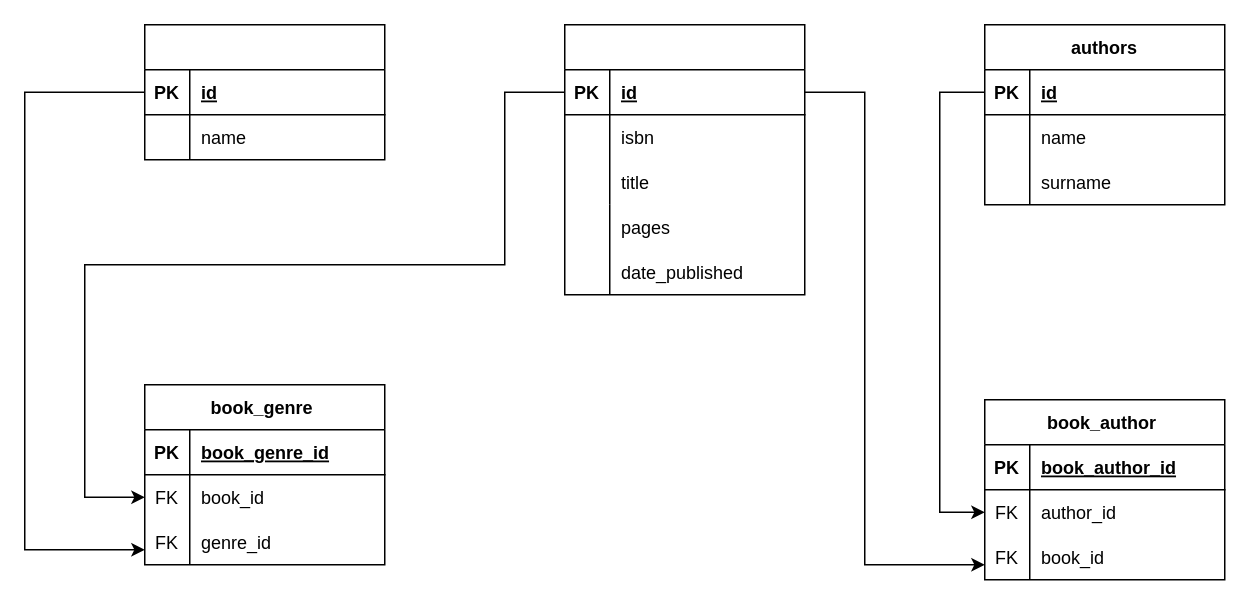
The diagram is 1250 pixels wide and 605 high, and some of its shapes have lost their labels. The shapes that lost their labels are listed below. From the top down, each one's box as (x1, y1, x2, y2) in pixels, then its label:
(143, 23, 385, 160): genres
(563, 23, 805, 295): books
